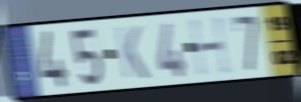4: (156, 19, 189, 80), (39, 29, 69, 91)
5: (68, 25, 105, 87)
7: (231, 14, 259, 73)
H: (187, 13, 235, 78)
K: (113, 24, 151, 81)
